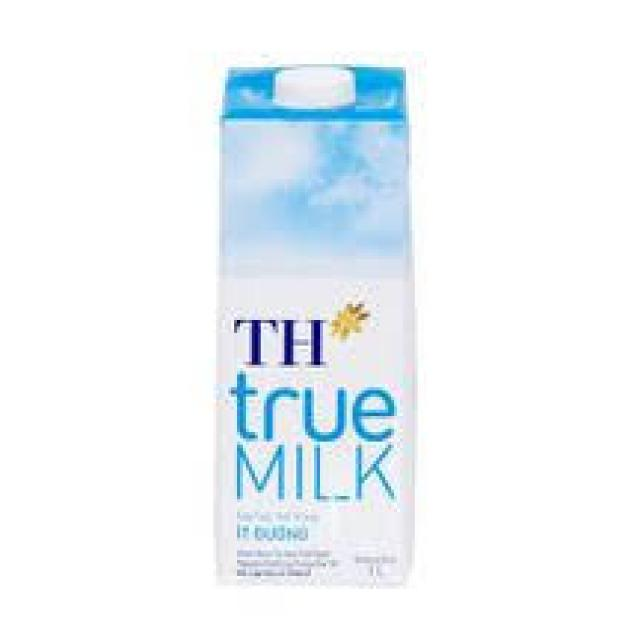non_white_jug: (203, 29, 448, 583)
